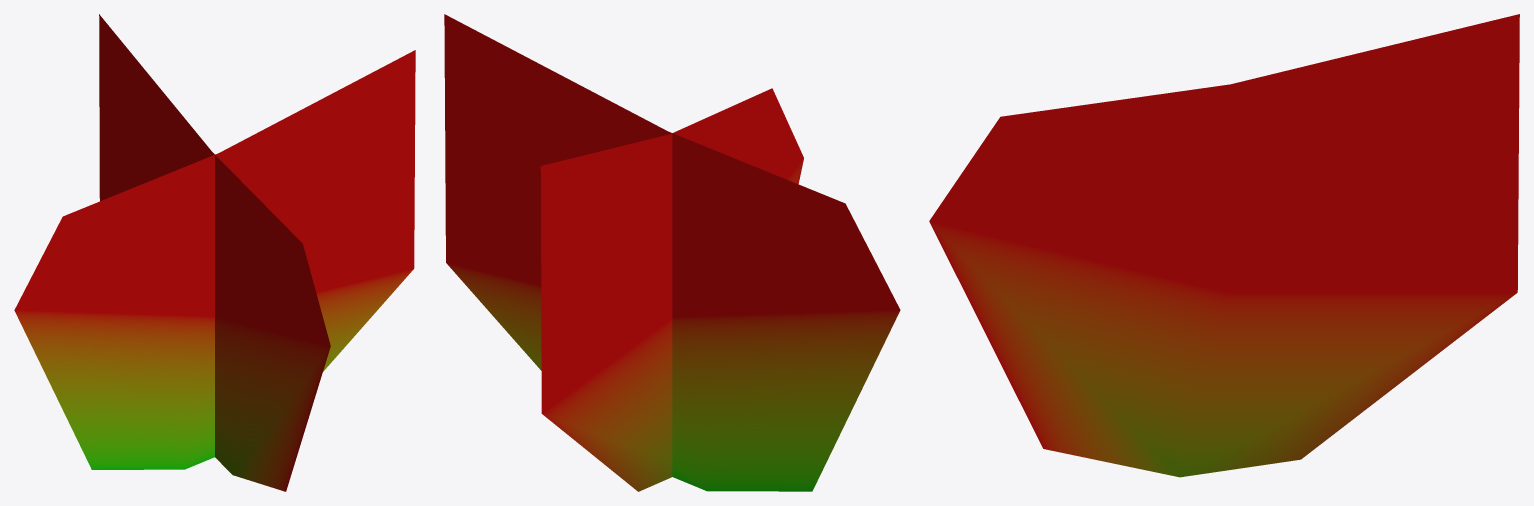
Rendered from Kikuyu Grass_LOD6_Var16_wiljearqx.fbx.
3 renders of one model, left to right at view 1: azimuth 30°, elevation 25°; view 2: azimuth 150°, elevation 25°; view 3: azimuth 270°, elevation 25°, orthographic. The views are drawn at different scales.
Visible parts, largest first — view 1: _bysx_Var16_LOD6; view 2: _bysx_Var16_LOD6; view 3: _bysx_Var16_LOD6.
Boxes of the visible parts, <box> form: _bysx_Var16_LOD6: <box>14,14,415,491</box>; _bysx_Var16_LOD6: <box>444,14,900,491</box>; _bysx_Var16_LOD6: <box>929,14,1519,477</box>.
Bounding box in the file's own units: 19.42 × 16.81 × 19.42.
